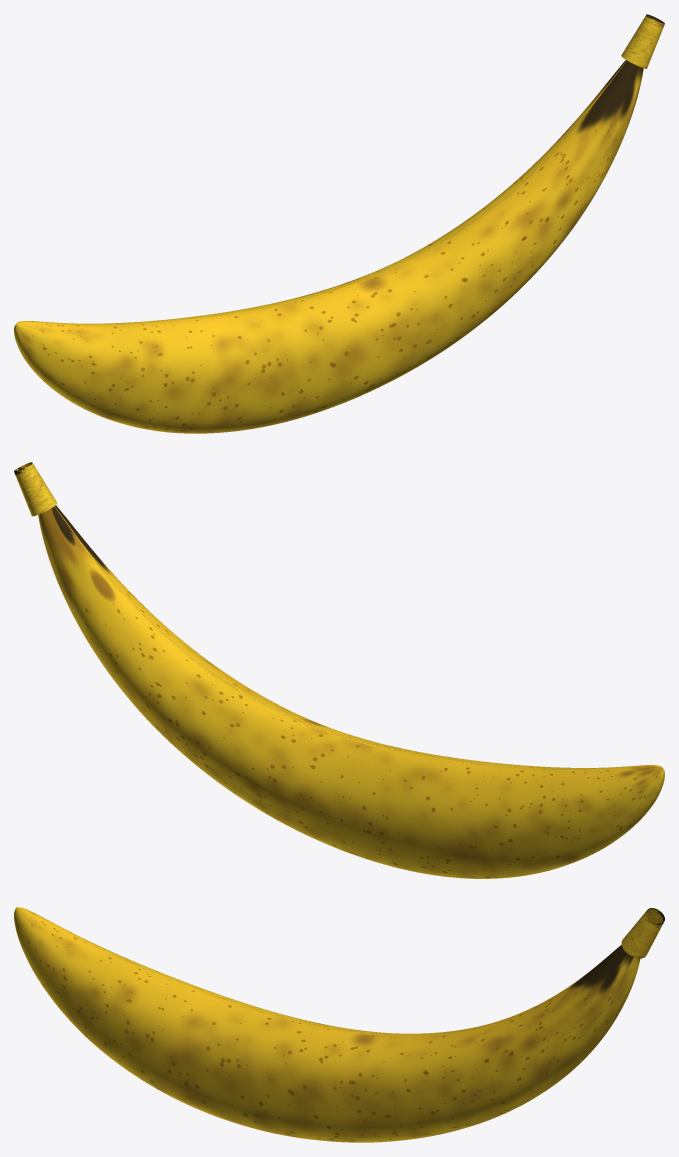
3 views of the same model, one above another, from view 1: azimuth 30°, elevation 25°; view 2: azimuth 150°, elevation 25°; view 3: azimuth 330°, elevation 25° (orthographic).
Parts seen in each view (by area): view 1: Banana_3D; view 2: Banana_3D; view 3: Banana_3D.
Part boxes in pixels (left/top/right/bottom): Banana_3D: left=14, top=14, right=664, bottom=433; Banana_3D: left=14, top=462, right=664, bottom=878; Banana_3D: left=14, top=907, right=664, bottom=1142.
Bounding box in the file's own units: 540 × 248 × 59.89.
Materials: 1 (1 with a texture image).
